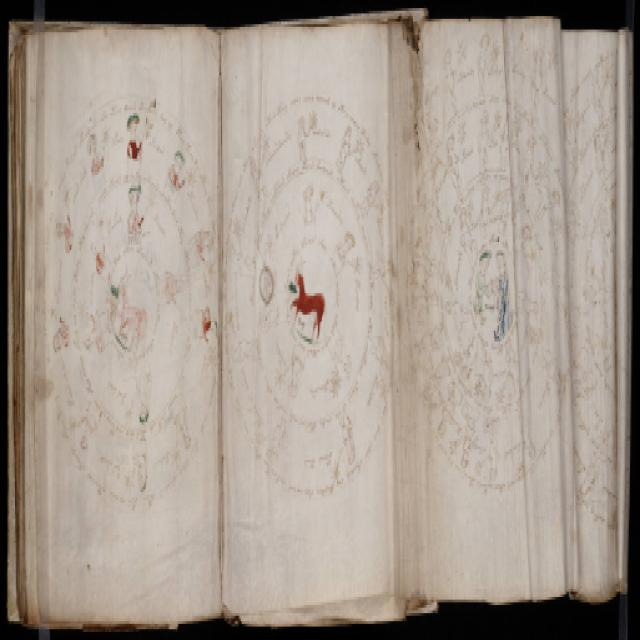ornament_circle: (38, 87, 227, 522), (224, 82, 402, 501), (402, 89, 580, 493)
